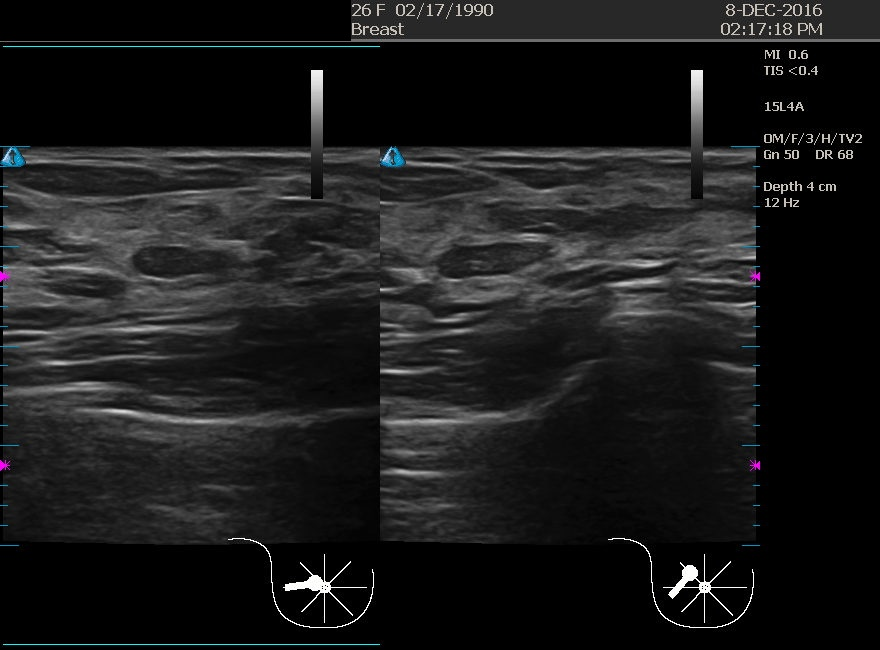BIRADS_3: (395, 169, 587, 361), (87, 171, 279, 363)
